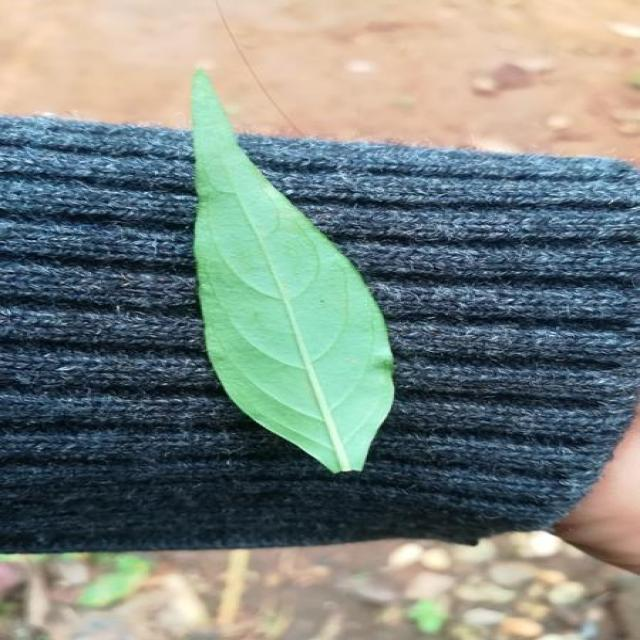Nelavembu: (192, 70, 393, 472)
